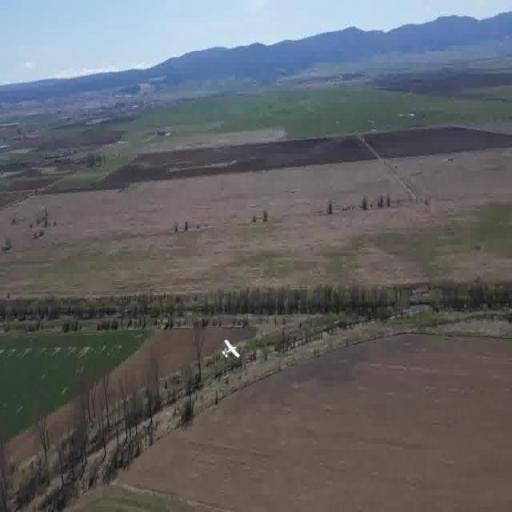uav: (218, 336, 242, 368)
